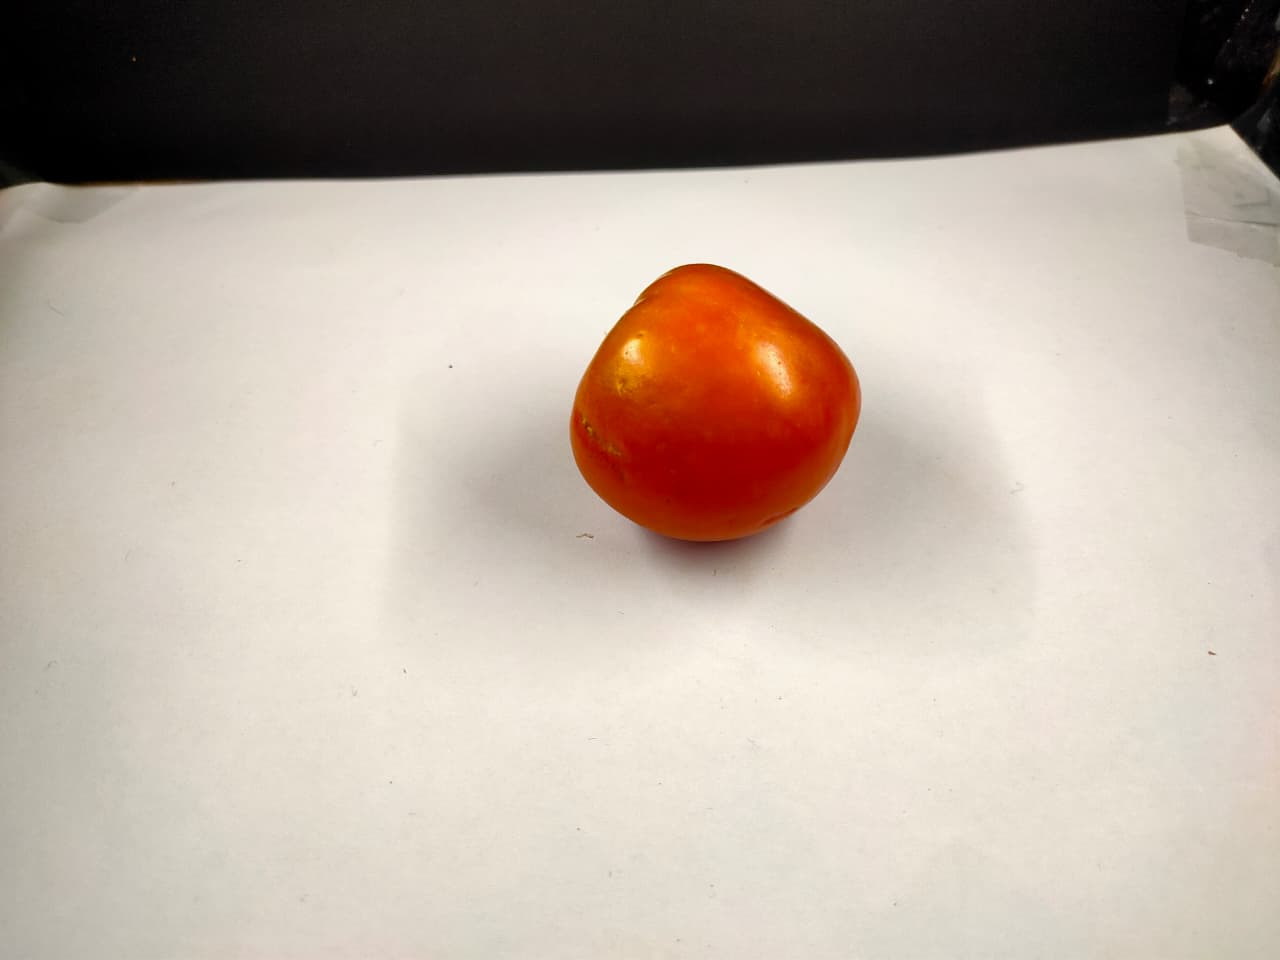unripe: (552, 230, 876, 573)
